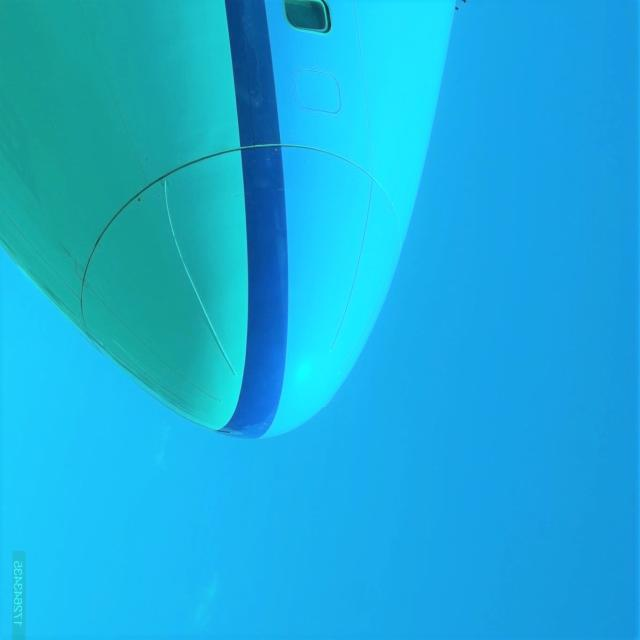Rupture: (70, 260, 88, 284)
